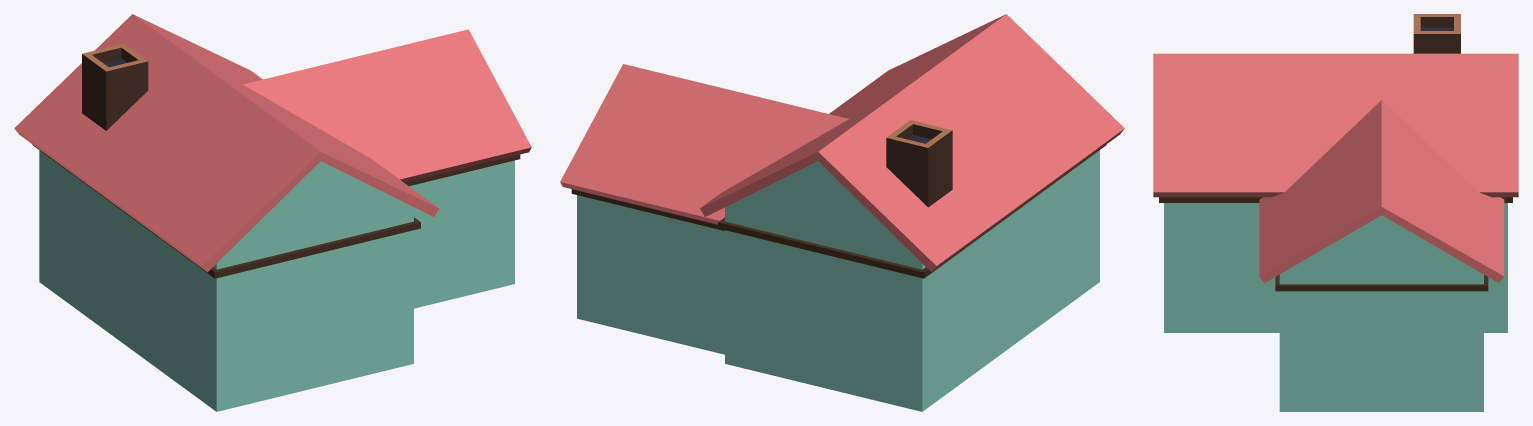
File: Regular_House2.fbx
3 views of the same model, side by side, from view 1: azimuth 30°, elevation 25°; view 2: azimuth 150°, elevation 25°; view 3: azimuth 270°, elevation 25° (orthographic). The views are drawn at different scales.
Visible parts, largest first — view 1: Cube.050; view 2: Cube.050; view 3: Cube.050.
Boxes of the visible parts, box(x1,y1,x2,y2) form: Cube.050: box(14, 14, 531, 411); Cube.050: box(560, 14, 1124, 411); Cube.050: box(1153, 14, 1518, 411).
Bounding box in the file's own units: 1824 × 1111 × 1549.
